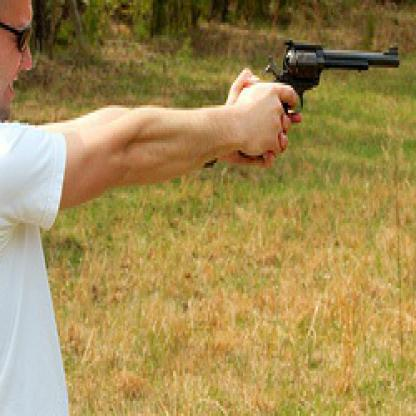gun: (262, 36, 403, 121)
